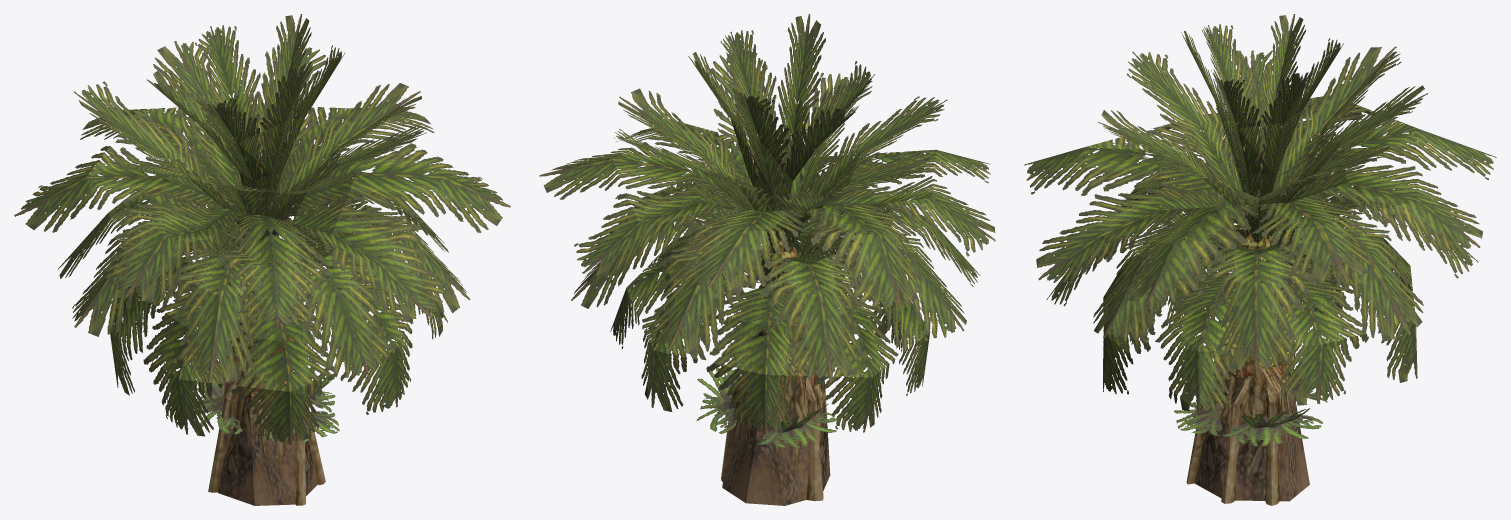
File: C3SNSQUATPALMH.obj
The picture shows the model from 3 angles, left to right: view 1: azimuth 30°, elevation 25°; view 2: azimuth 150°, elevation 25°; view 3: azimuth 270°, elevation 25°; orthographic projection. The views are drawn at different scales.
Parts seen in each view (by area): view 1: Node 0; view 2: Node 0; view 3: Node 0.
Boxes of the visible parts, box(x1,y1,x2,y2) form: Node 0: box(14, 14, 510, 505); Node 0: box(539, 14, 995, 505); Node 0: box(1024, 14, 1496, 505).
Bounding box in the file's own units: 8.82 × 9.79 × 9.26.
Materials: 1 (1 with a texture image).
